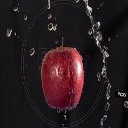apple: (40, 43, 85, 111)
